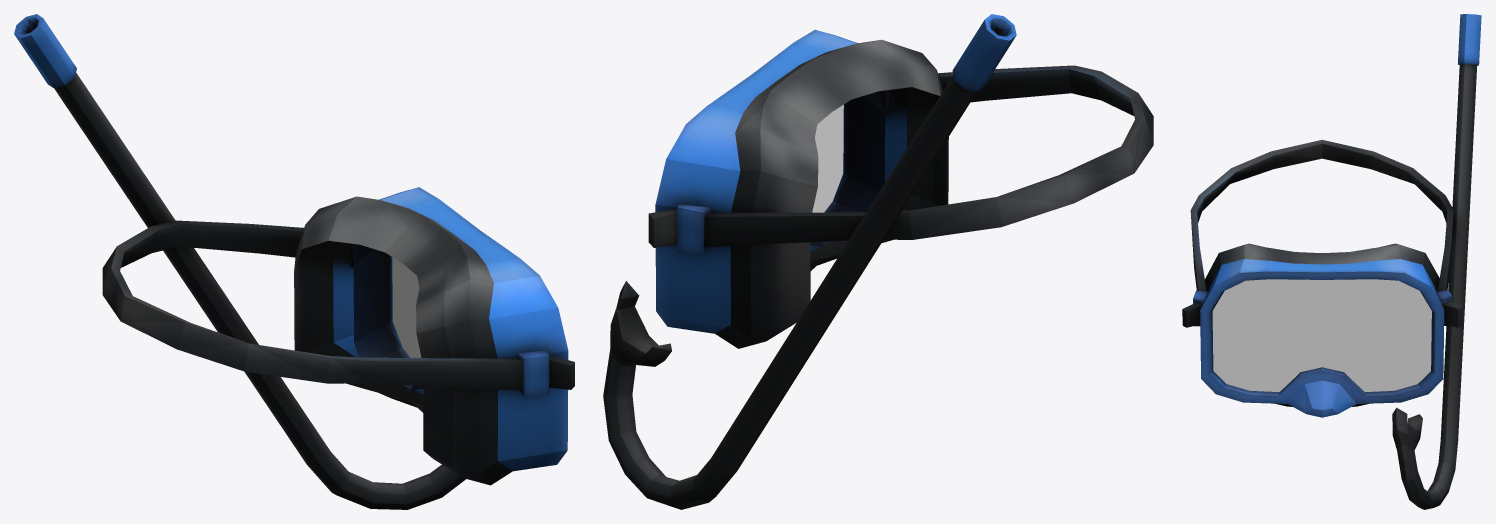
File: SCUBA MASK.fbx
The picture shows the model from 3 angles, left to right: view 1: azimuth 30°, elevation 25°; view 2: azimuth 150°, elevation 25°; view 3: azimuth 270°, elevation 25°; orthographic projection. The views are drawn at different scales.
Visible parts, largest first — view 1: ScubaMask, ScubaMaskGlass; view 2: ScubaMask, ScubaMaskGlass; view 3: ScubaMask, ScubaMaskGlass.
Part boxes in pixels (x1,y1,x2,y2): ScubaMask: [14, 14, 574, 509]; ScubaMaskGlass: [392, 257, 421, 357]; ScubaMask: [603, 14, 1153, 509]; ScubaMaskGlass: [812, 104, 843, 212]; ScubaMask: [1182, 14, 1481, 509]; ScubaMaskGlass: [1212, 279, 1431, 392].
Bounding box in the file's own units: 32.53 × 40.13 × 28.61.
